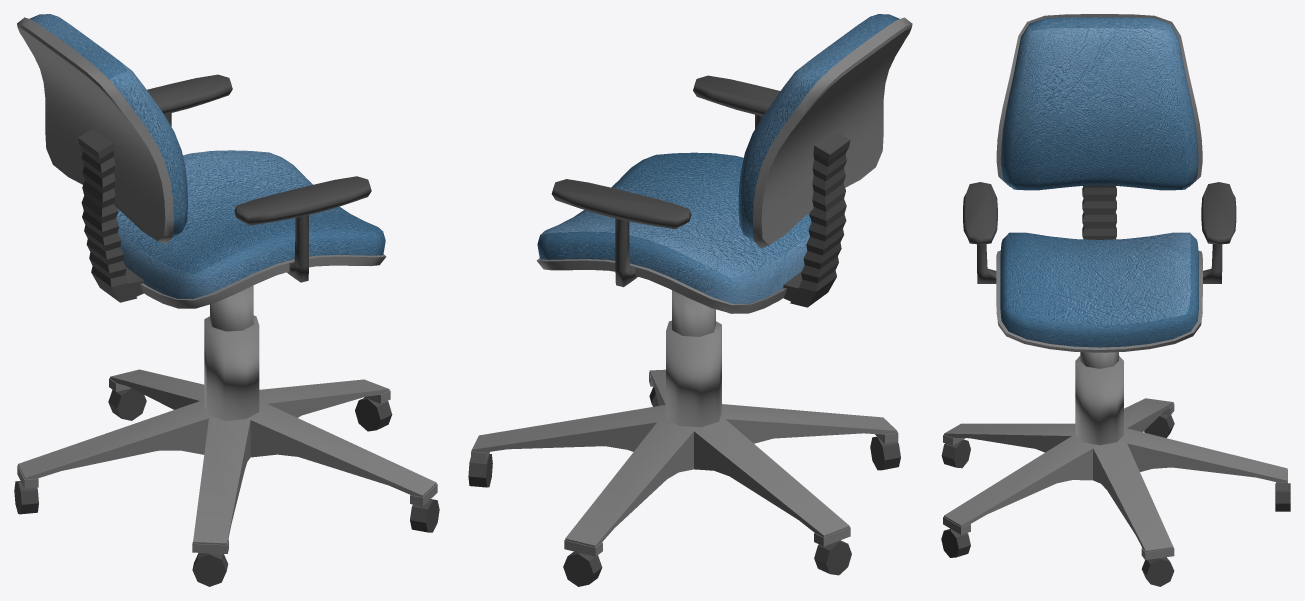
File: Cadira Oficina.fbx
3 views of the same model, side by side, from view 1: azimuth 30°, elevation 25°; view 2: azimuth 150°, elevation 25°; view 3: azimuth 270°, elevation 25° (orthographic). The views are drawn at different scales.
Visible parts, largest first — view 1: Cube.005; view 2: Cube.005; view 3: Cube.005.
Boxes of the visible parts, bbox=[...] form: Cube.005: bbox=[14, 14, 439, 586]; Cube.005: bbox=[468, 14, 912, 586]; Cube.005: bbox=[941, 14, 1290, 586].
Bounding box in the file's own units: 70.73 × 67.33 × 90.52.
Materials: 3 (1 with a texture image).
